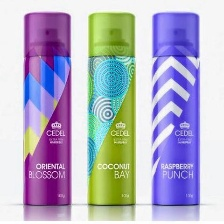bottle: (146, 8, 203, 209), (19, 6, 73, 209), (84, 7, 138, 207)
